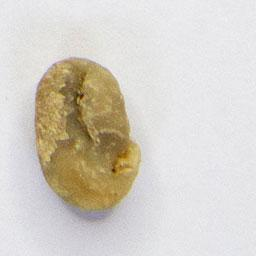defect: (31, 53, 145, 215)
